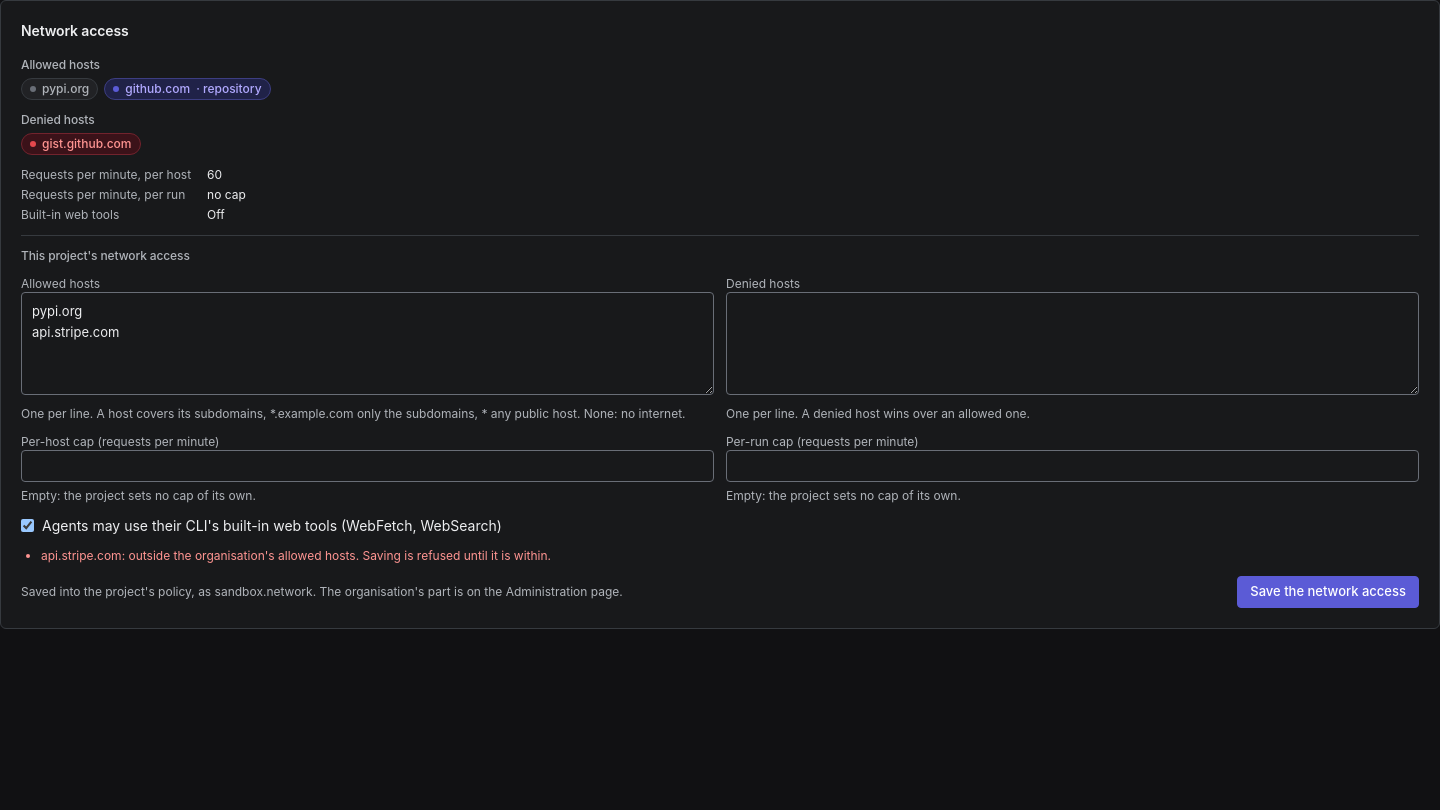
Test case: the project's network, edited in its settings (S41-22) › refuses to rewrite a policy it cannot read, and sends nothing
The width and height of the screenshot is (1440, 810).
Click the button "Save the network access" at (1328, 592), box [1237,576,1419,608]
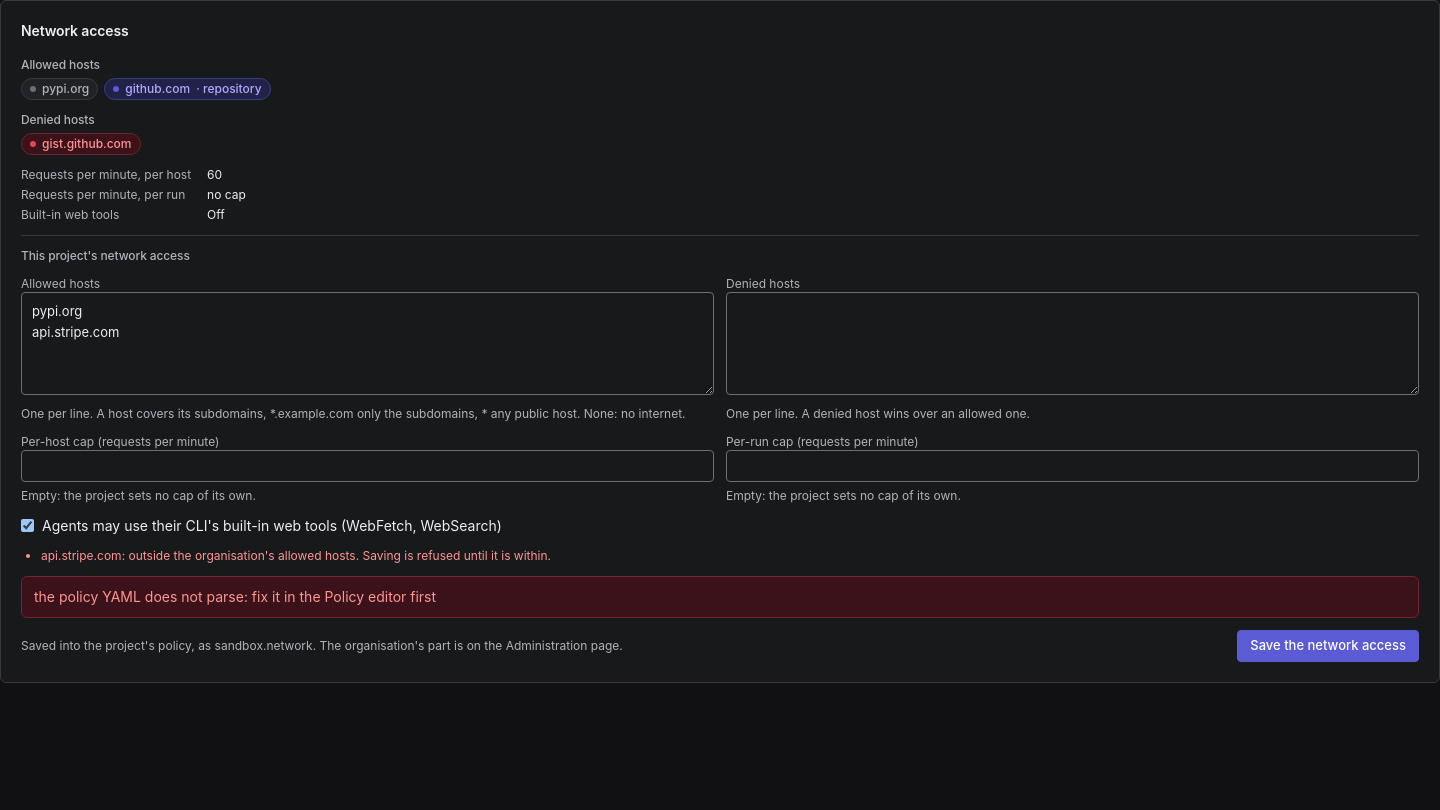
Result: the text "does not parse" is shown at [34,588,436,604]
